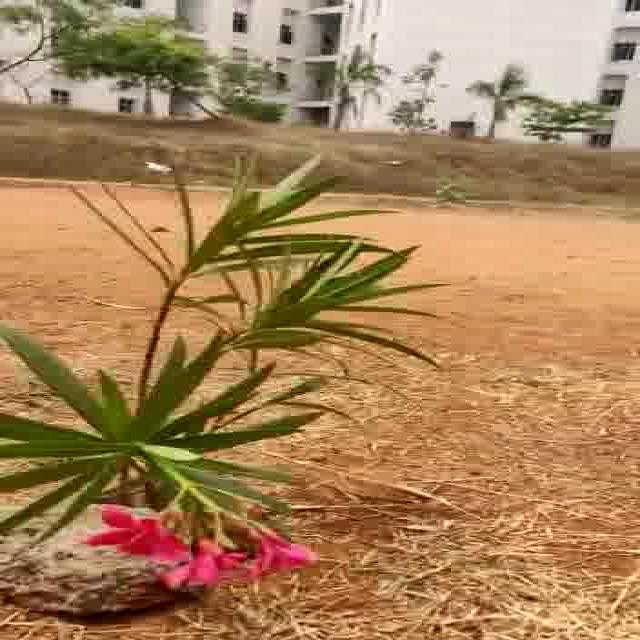OLEANDER: (0, 148, 476, 565)
